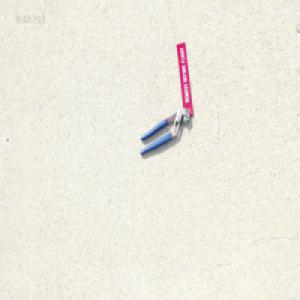Label: (176, 42, 194, 115)
Pliers: (139, 107, 189, 156)
